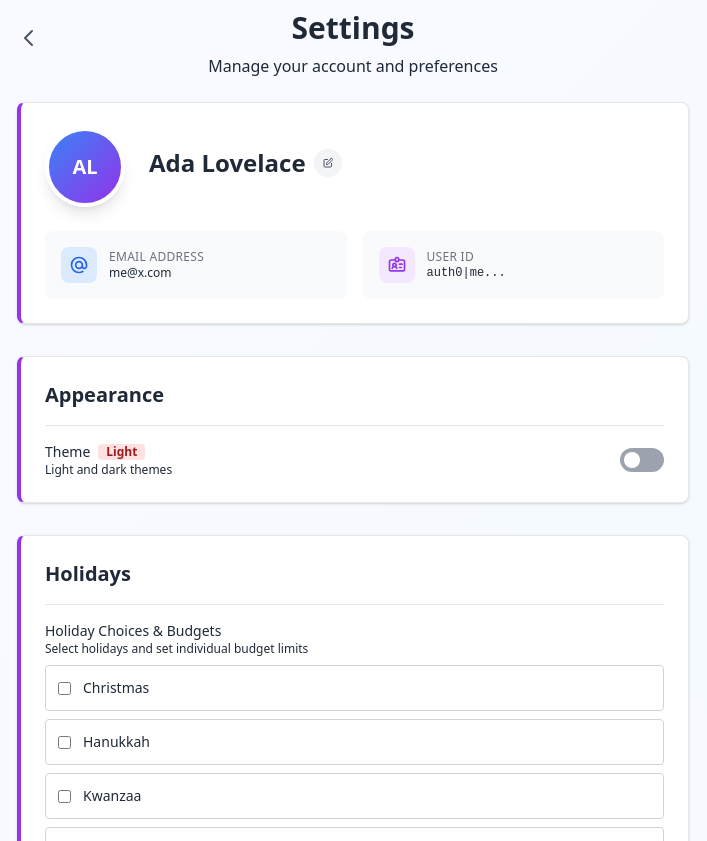
Settings page › editing the display name › starts from the current name
The image size is (707, 841).
Click the button titled "Edit name": click(328, 163) [314, 149, 342, 177]
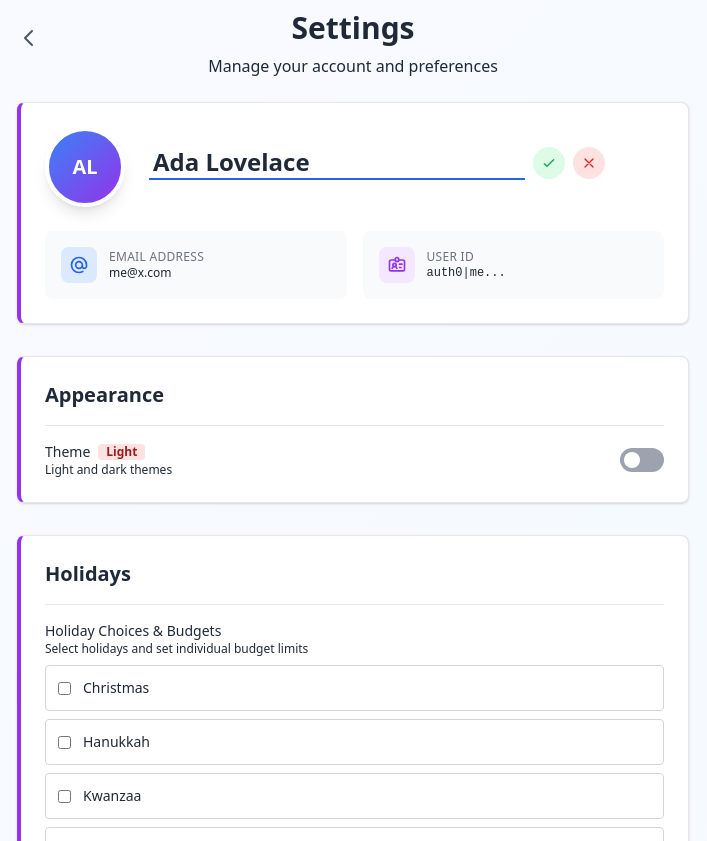
Result: the field with placeholder "Enter your name" holds "Ada Lovelace" at [149, 146, 525, 180]
